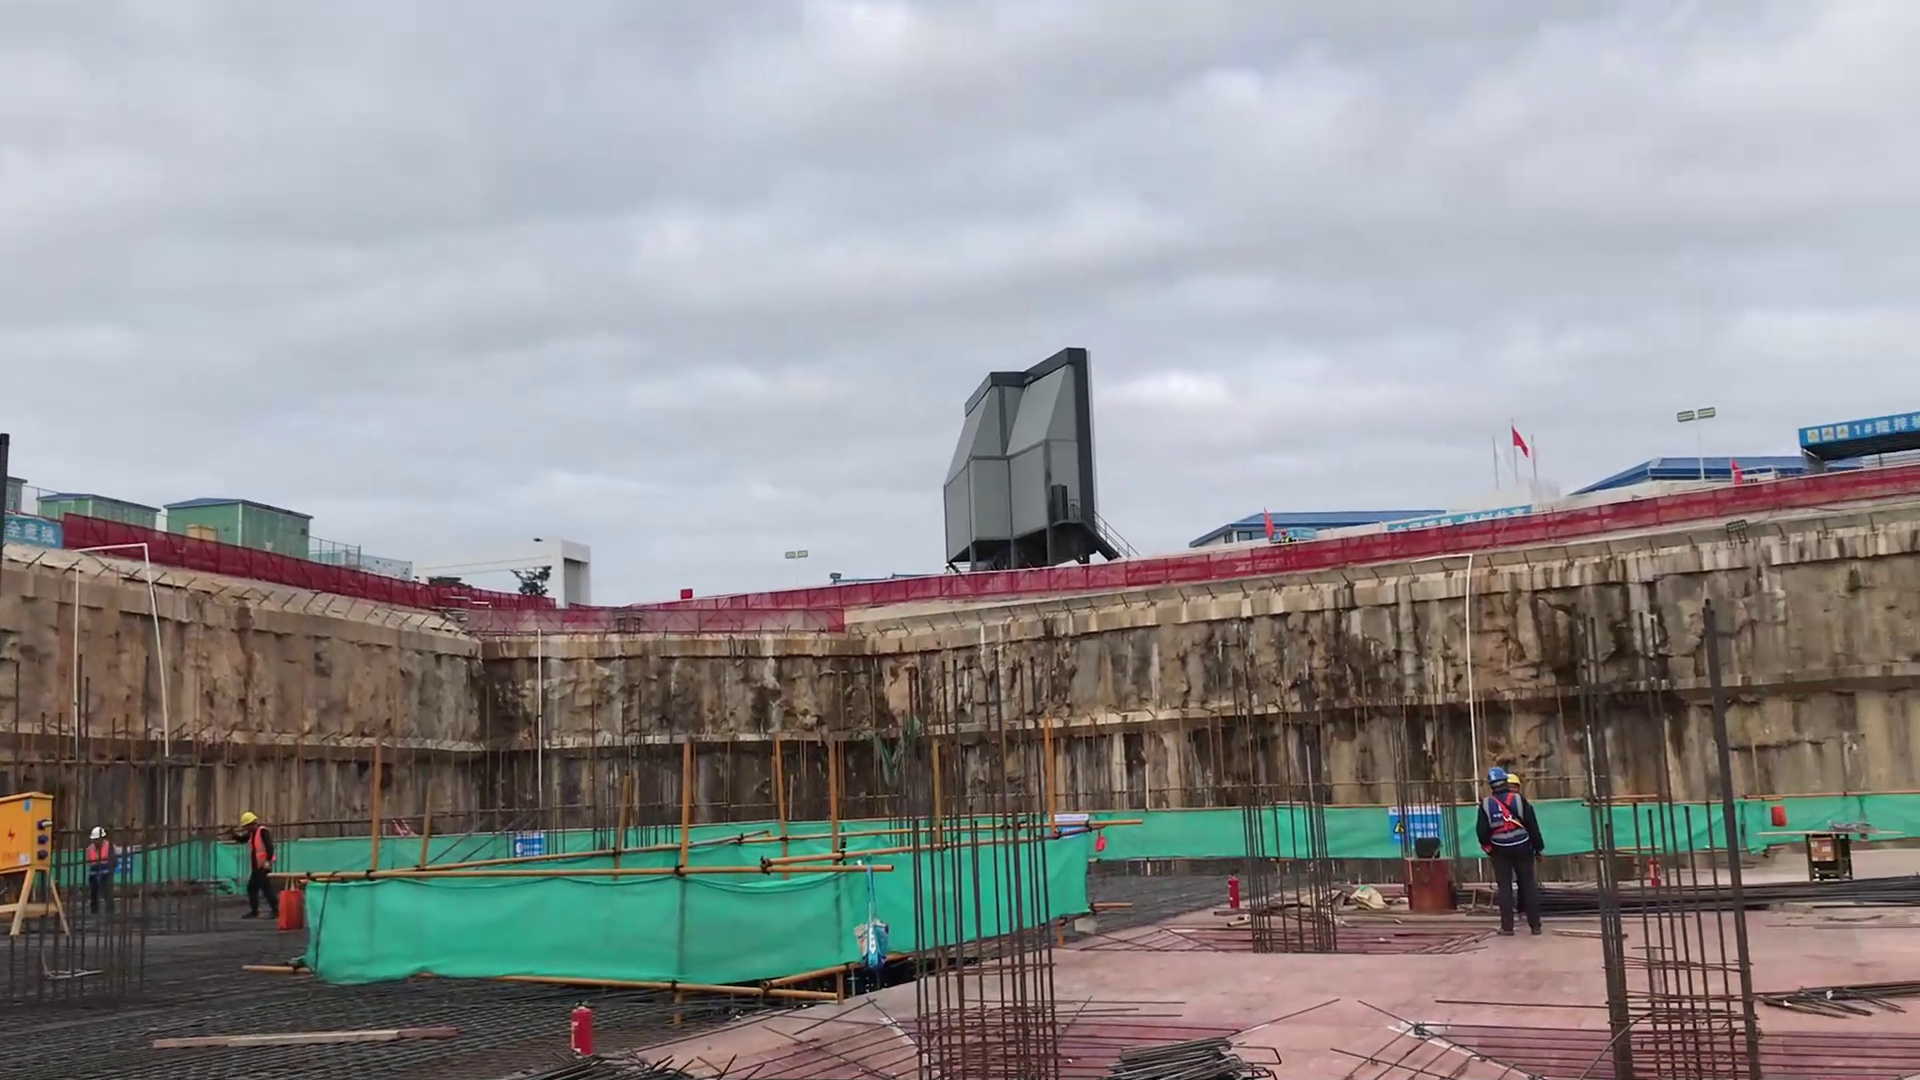cutter: (1754, 817, 1910, 883)
ebox: (1, 786, 60, 942)
fence: (572, 467, 1920, 636), (62, 507, 569, 628)
helmet: (83, 823, 113, 851), (235, 805, 265, 831), (1488, 768, 1515, 793)
person: (1475, 768, 1553, 941), (233, 801, 279, 925), (76, 822, 124, 919)
vest: (1485, 791, 1536, 859), (247, 830, 282, 879), (88, 843, 119, 893)
